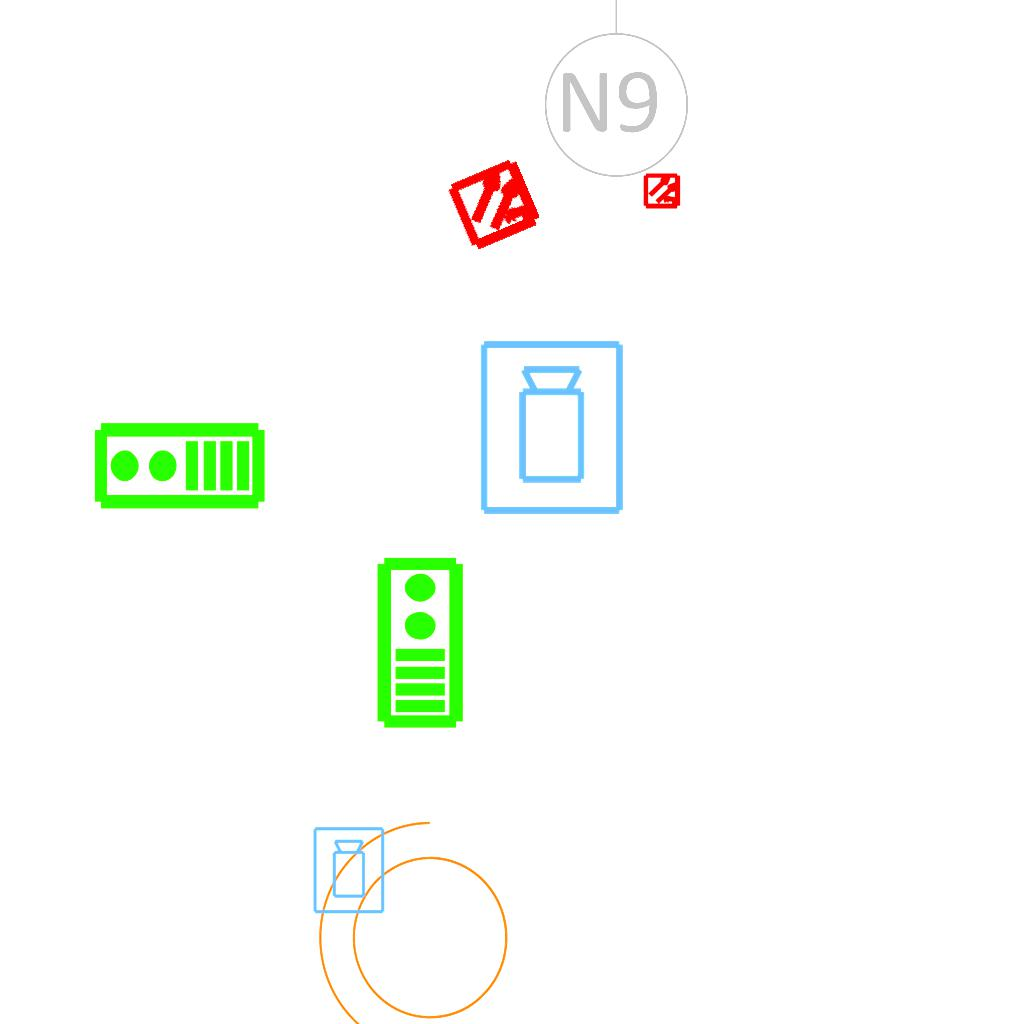Gegensprechanlage_mit_Video: (91, 420, 267, 515), (371, 554, 466, 730)
KFO_Kamera_mit_Festobjektiv: (476, 337, 630, 519), (311, 825, 388, 916)
OT_Multisensormelder_(Kombination_RMO_WMD): (422, 129, 571, 278), (635, 163, 691, 219)
Scheinwerfer_fuer_Alarmbeleuchtung: (308, 812, 533, 1024)
